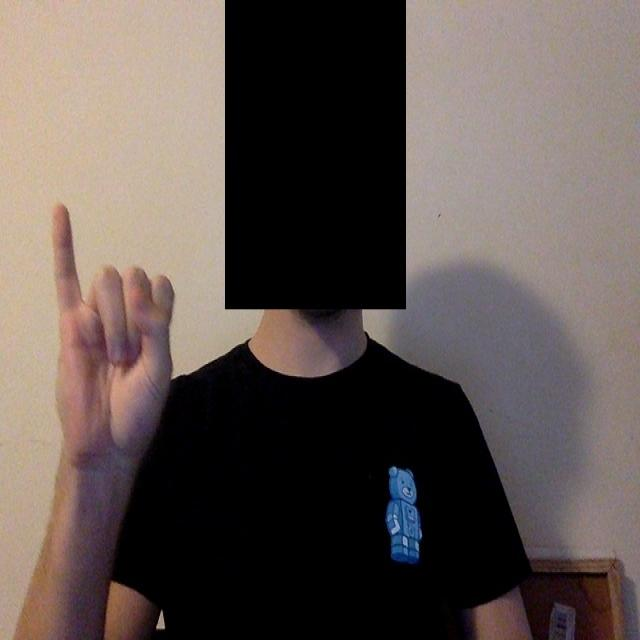I: (40, 179, 228, 472)
